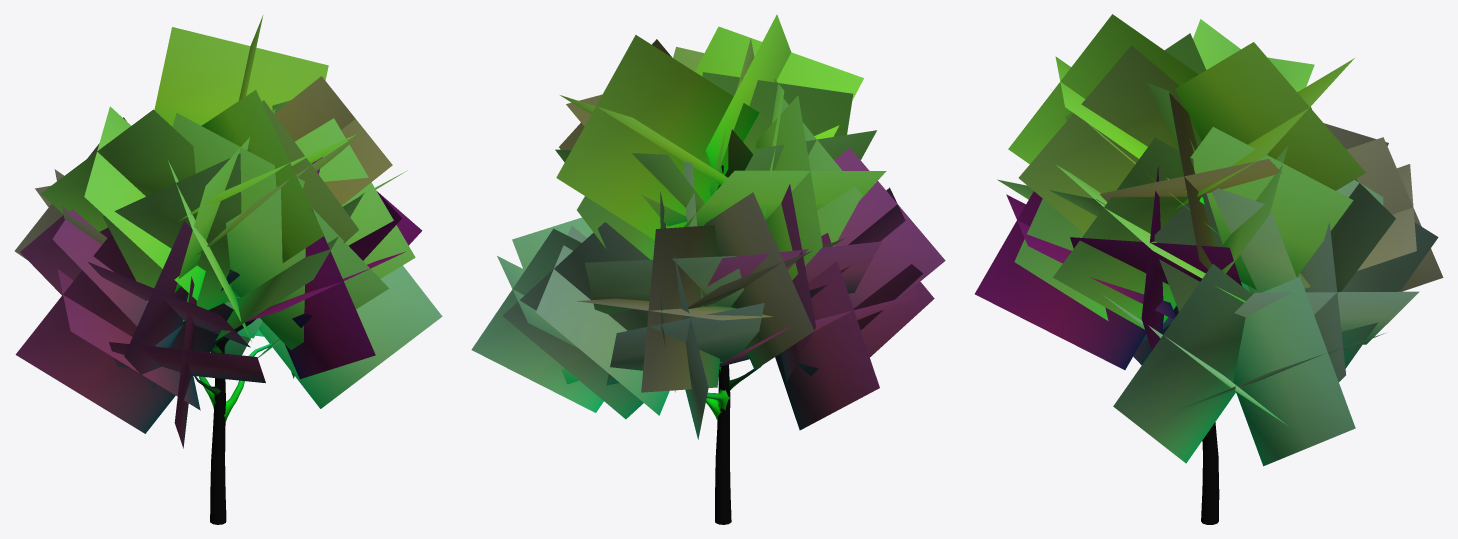
The model's file is URP_P12_Tree_13_LOD_2.fbx.
3 views of the same model, side by side, from view 1: azimuth 30°, elevation 25°; view 2: azimuth 150°, elevation 25°; view 3: azimuth 270°, elevation 25° (orthographic). The views are drawn at different scales.
Parts seen in each view (by area): view 1: Tree_13_LOD_2; view 2: Tree_13_LOD_2; view 3: Tree_13_LOD_2.
Boxes of the visible parts, bbox=[...] form: Tree_13_LOD_2: bbox=[14, 15, 442, 524]; Tree_13_LOD_2: bbox=[471, 14, 945, 524]; Tree_13_LOD_2: bbox=[975, 14, 1443, 524].
Bounding box in the file's own units: 183 × 219 × 181.
